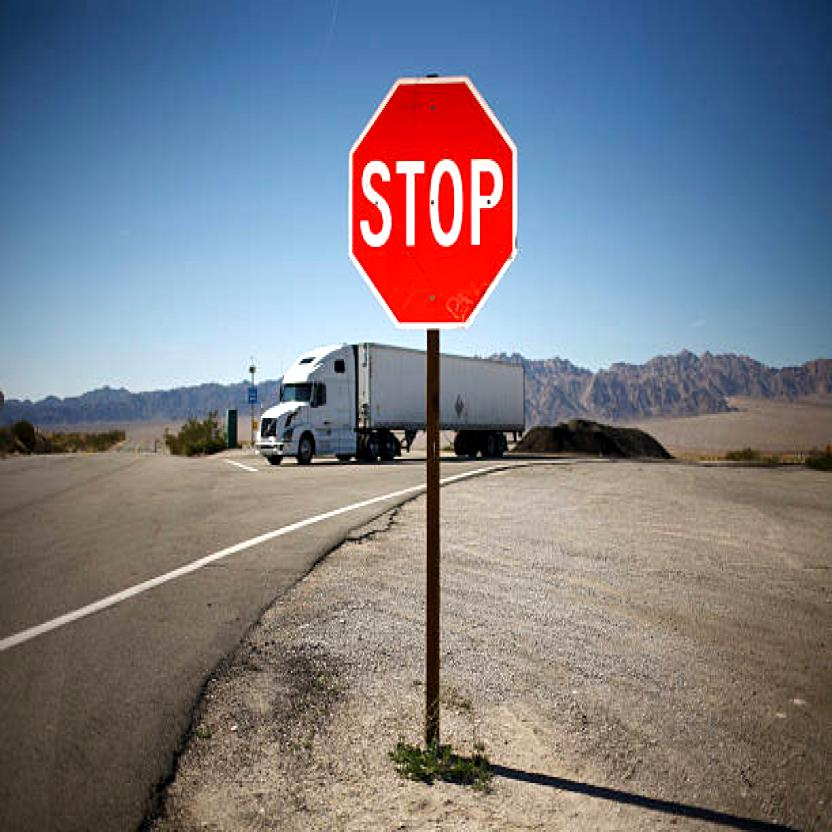Pole: (426, 327, 440, 751)
Sign: (351, 80, 519, 331)
